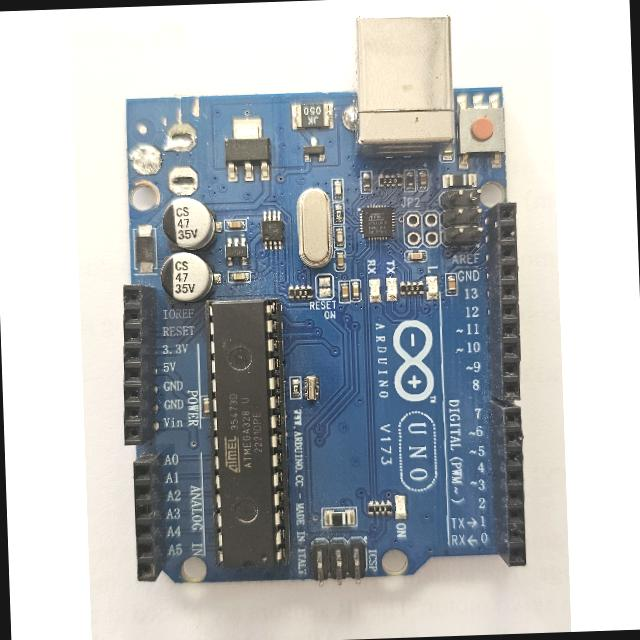missing_eps: (142, 68, 215, 197)
